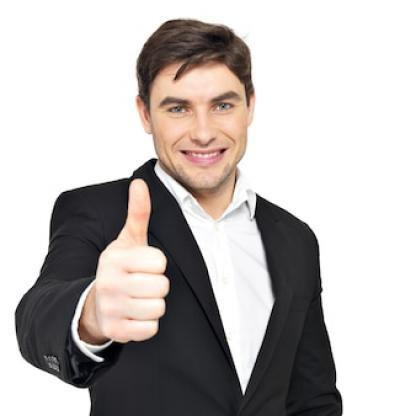thumb_up: (92, 170, 172, 348)
